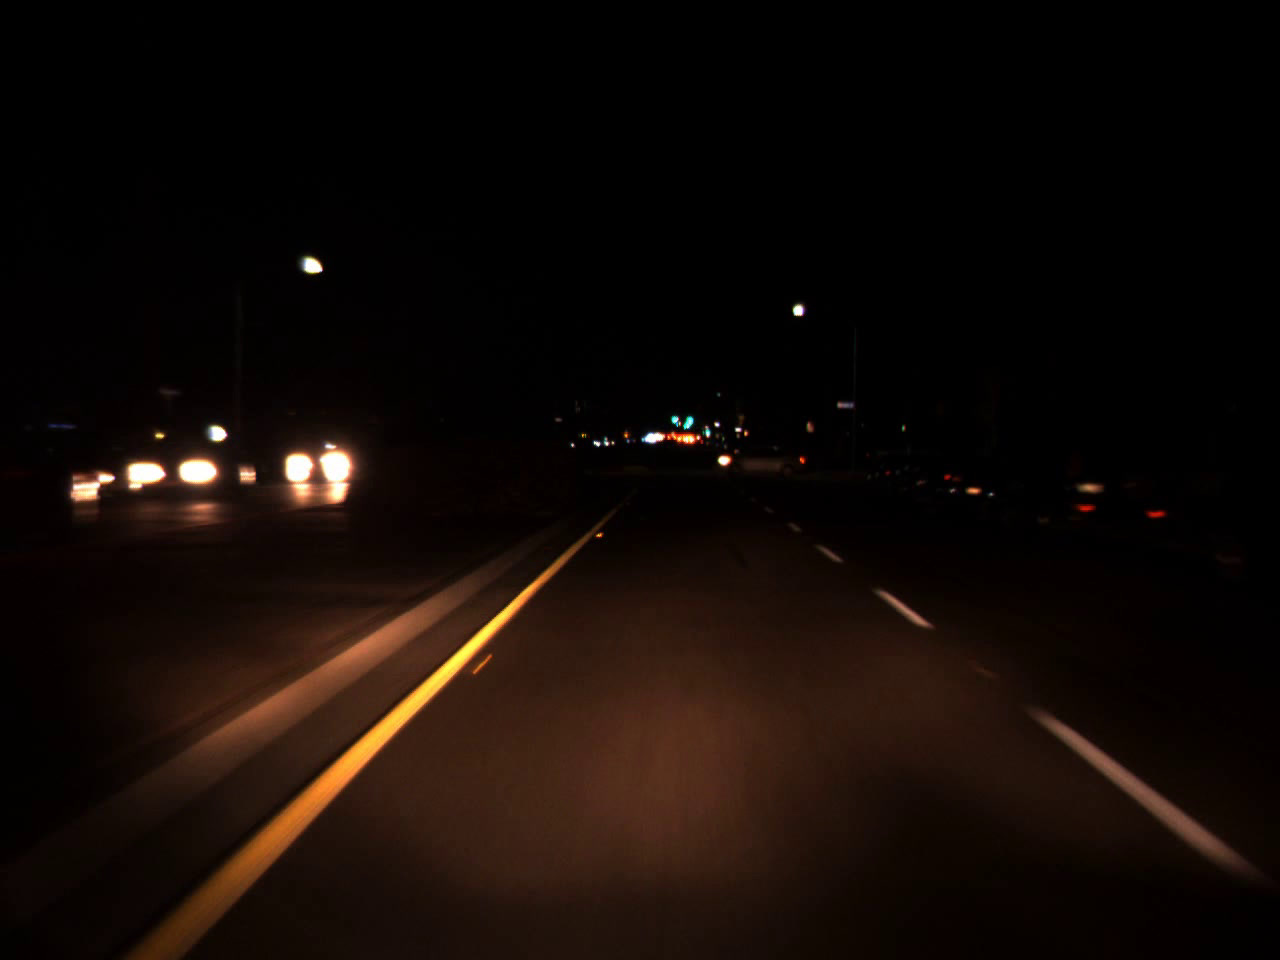go: (679, 399, 695, 435), (702, 419, 711, 435), (670, 408, 677, 426)
